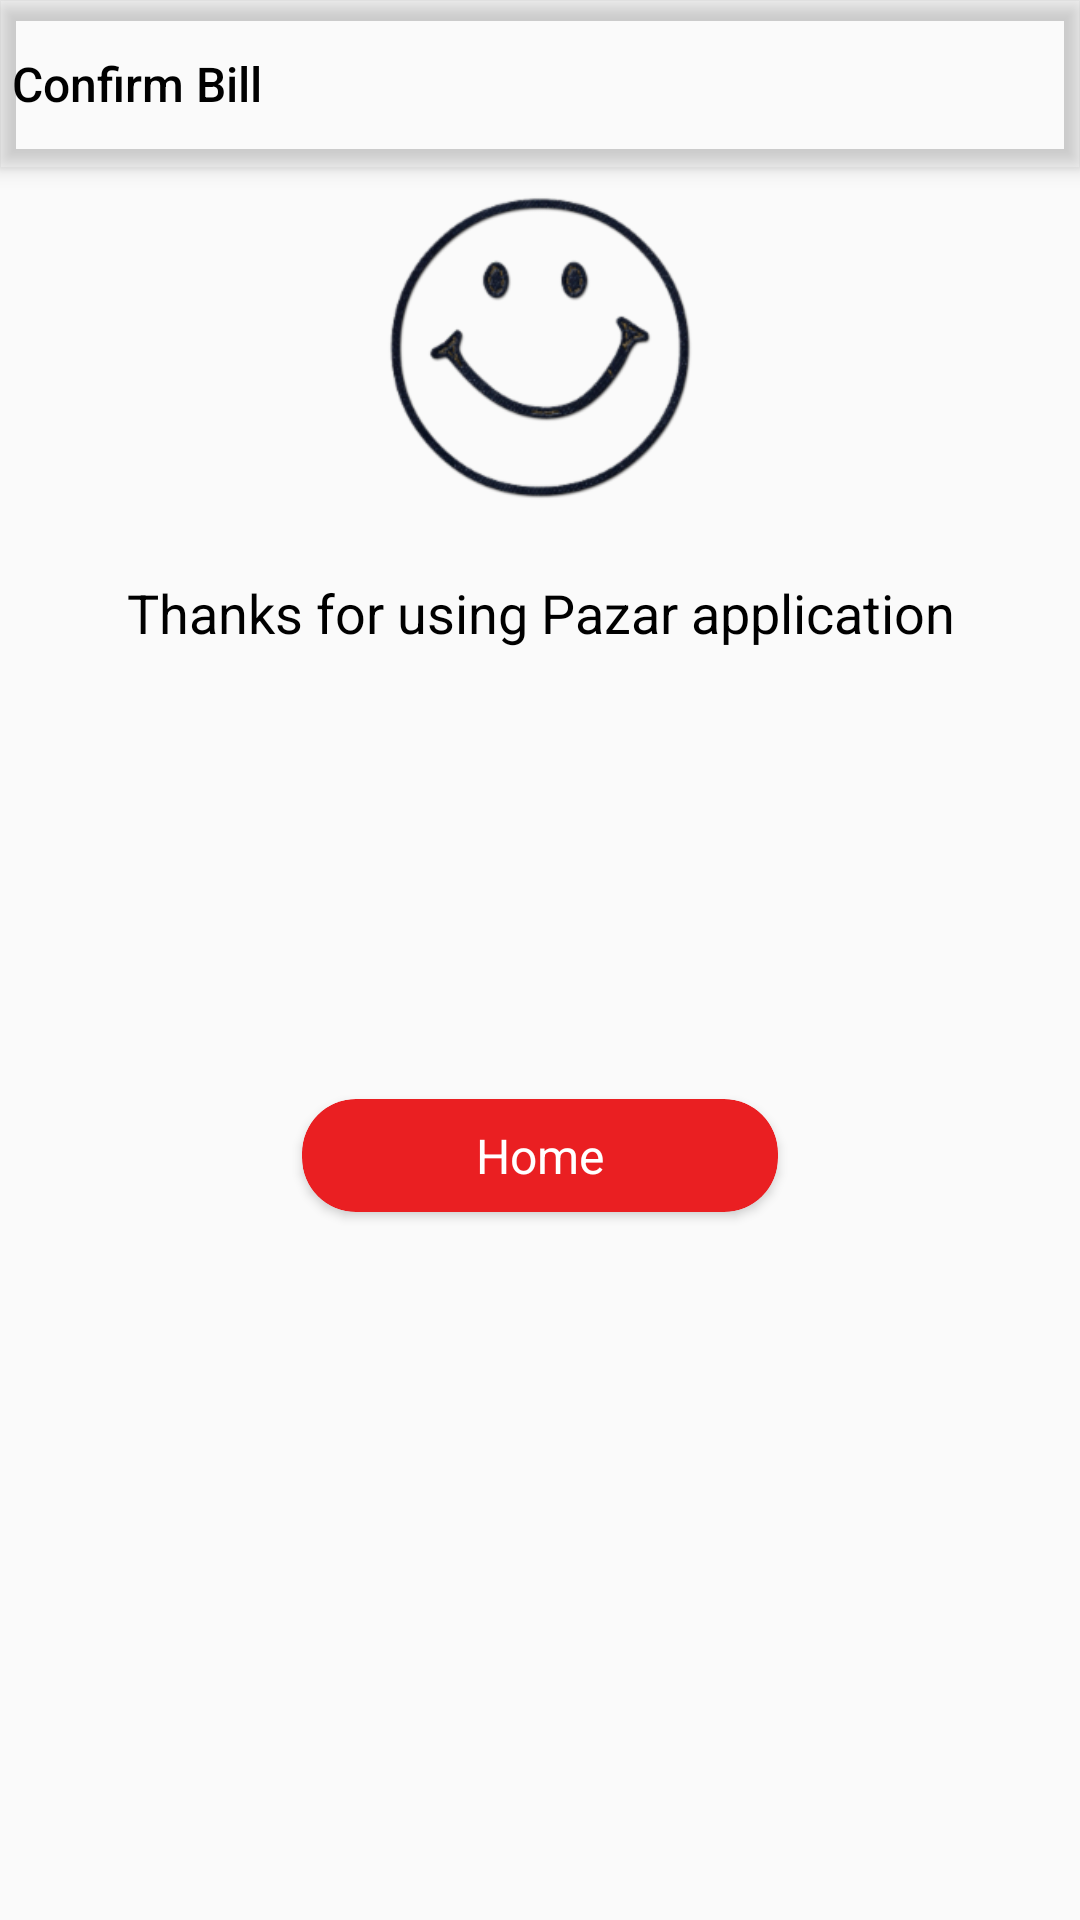

Screen size 1080 x 1920. Icon name, then its box in pixels as {"x1": x1, "y1": y1, "x2": x2, "y2": y2}:
face: {"x1": 390, "y1": 198, "x2": 690, "y2": 498}
